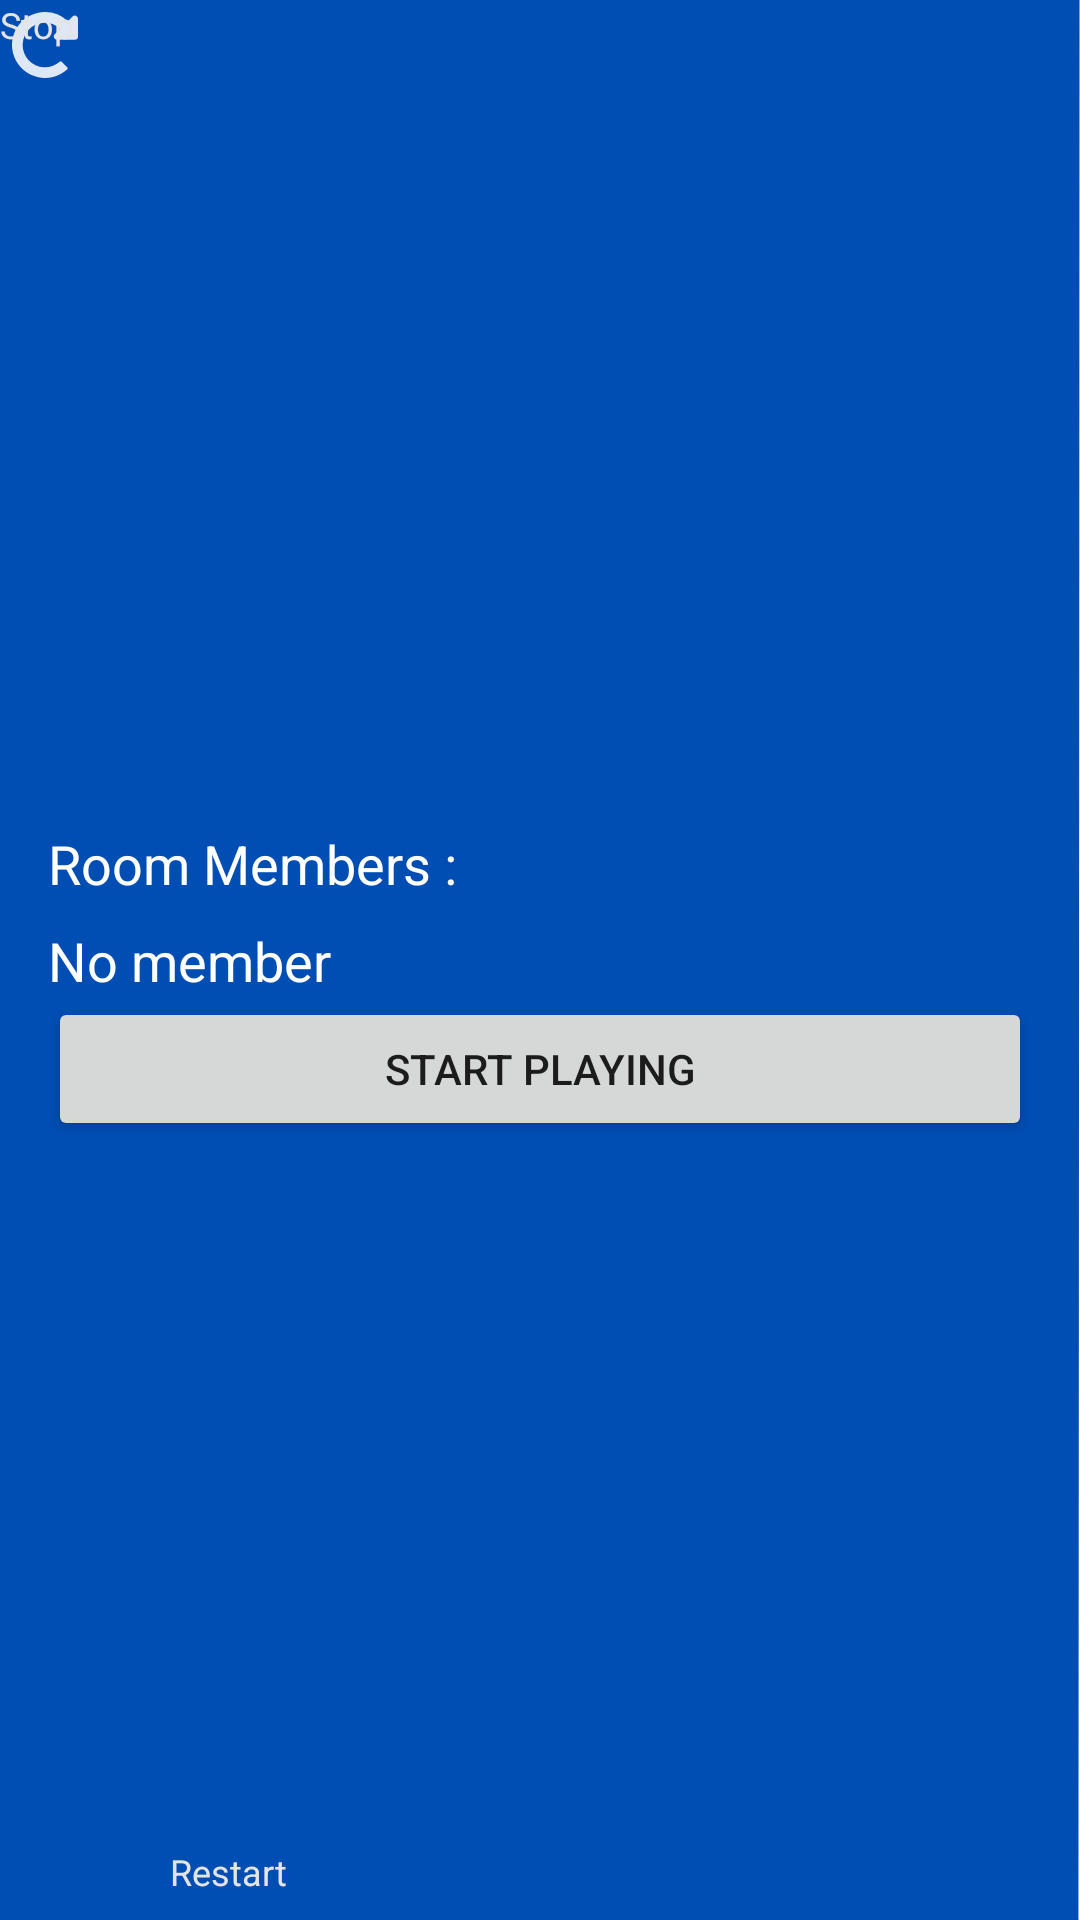

Icon bounding boxes for this 1080w x 1920h phone screenshot, format (x1, y1, x2, y2):
fontawsome redo: (1, 12, 78, 78)
